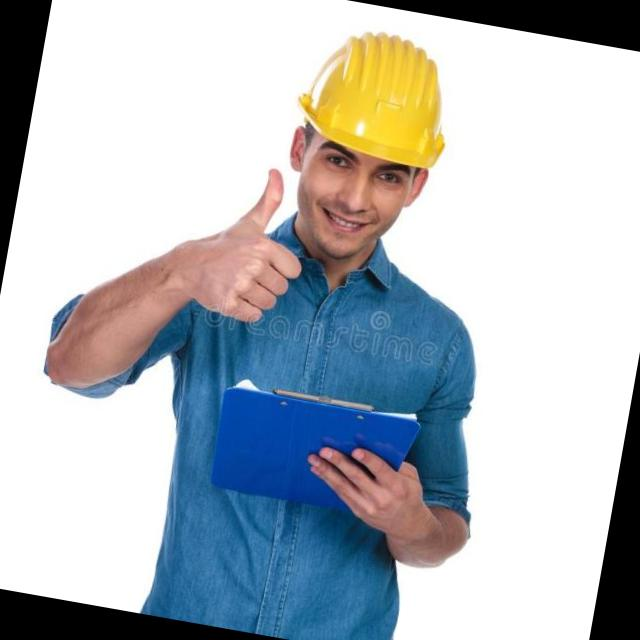Helmet: (271, 8, 510, 192)
